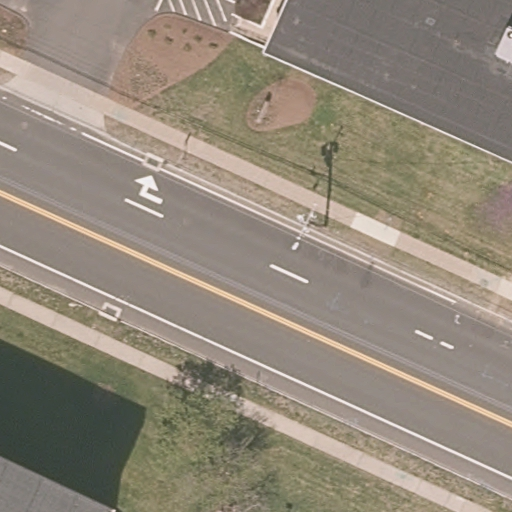DT: (291, 200, 322, 244)
